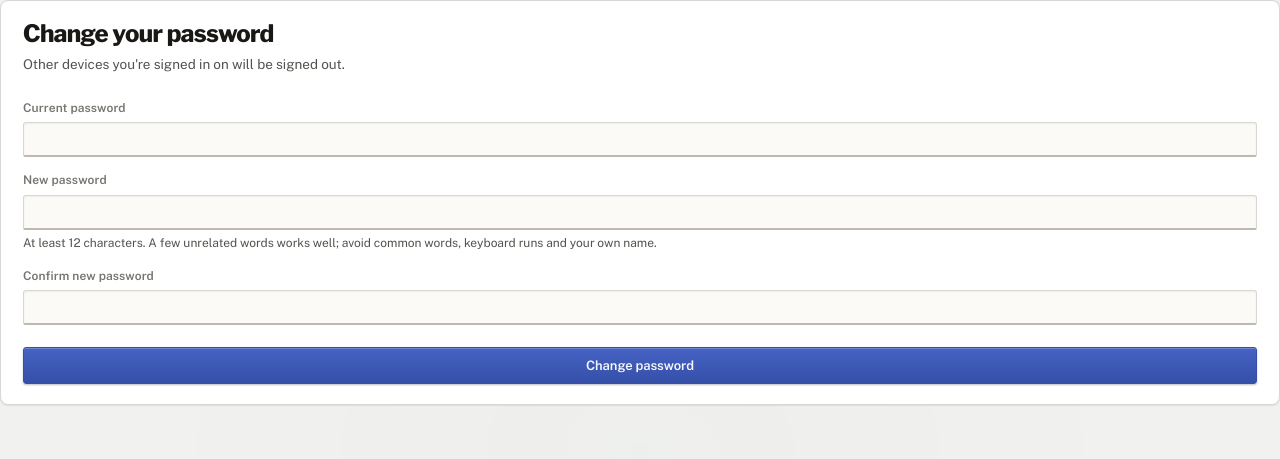
Test: ChangePasswordForm › refuses a short new password before sending anything
Type "old-passphrase-1" into the password field labelled "Current password" at (640, 140), box 23,122 -> 1257,157
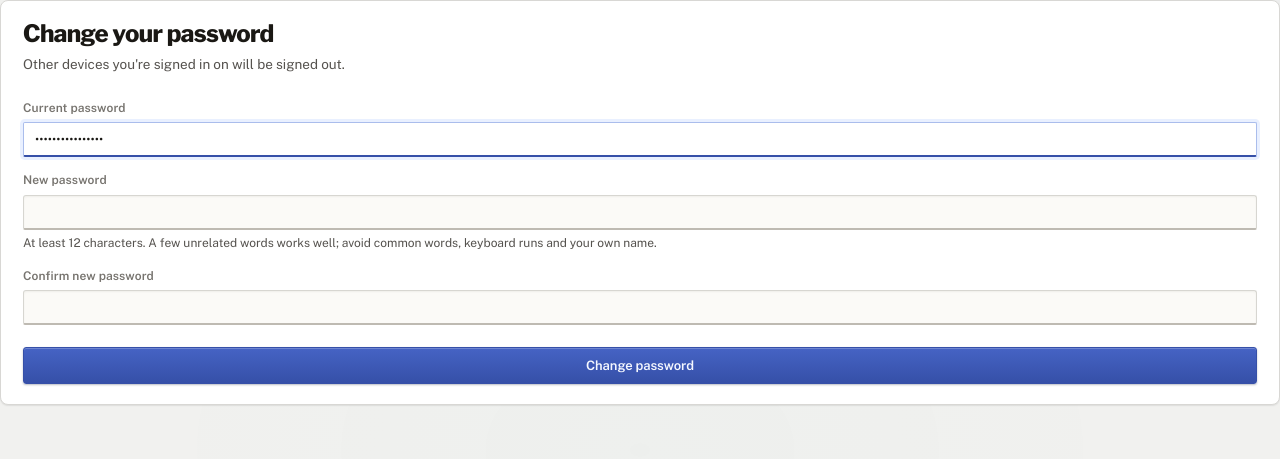
Type "short" into the password field labelled "New password" at (640, 212), box 23,195 -> 1257,230
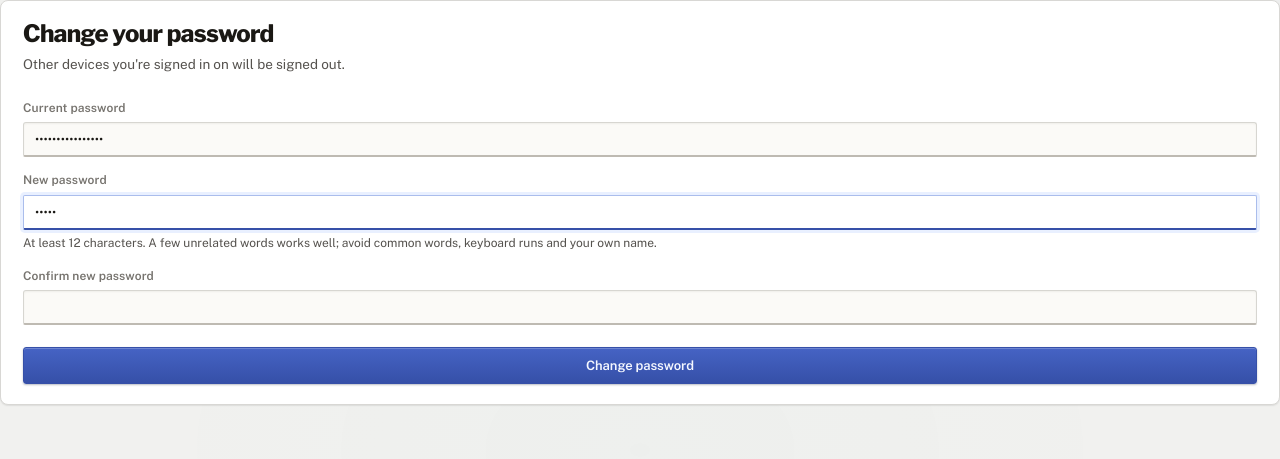
Type "short" into the password field labelled "Confirm new password" at (640, 308), box 23,290 -> 1257,325
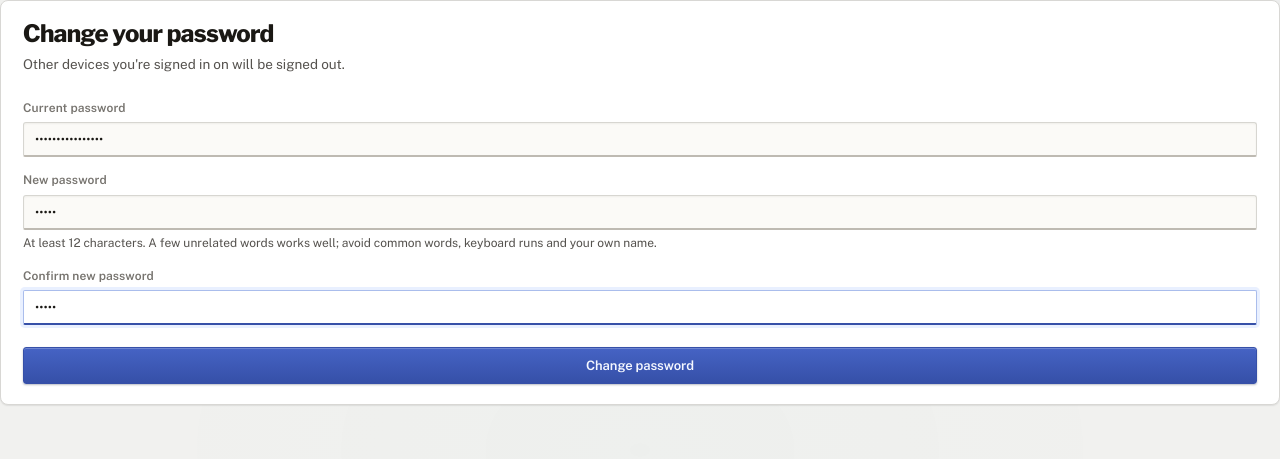
Click the button "Change password" at (640, 366), box 23,347 -> 1257,384
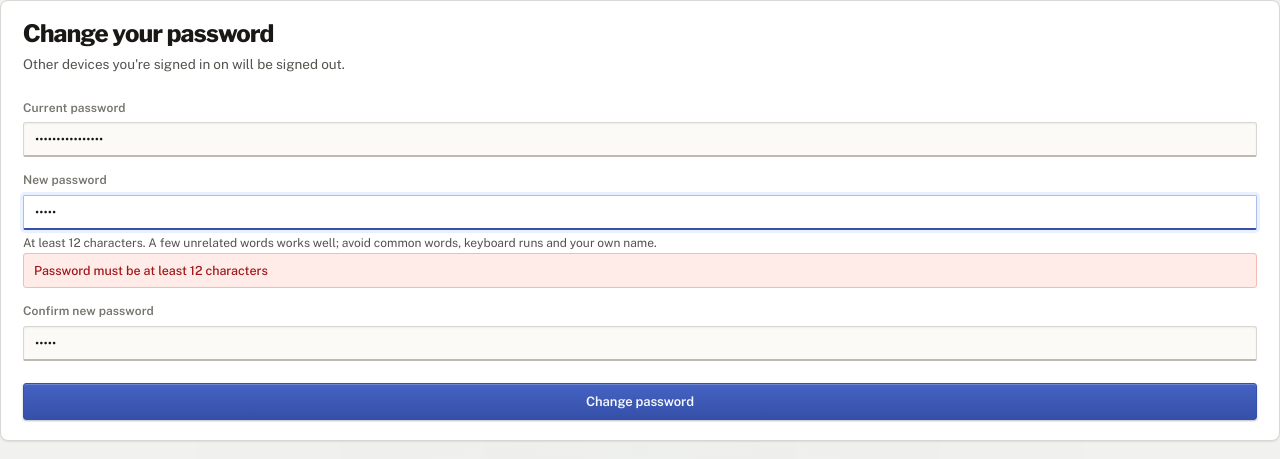
expect the text "Password must be at least 12 characters" is shown: met, box 23,253 -> 1257,288
